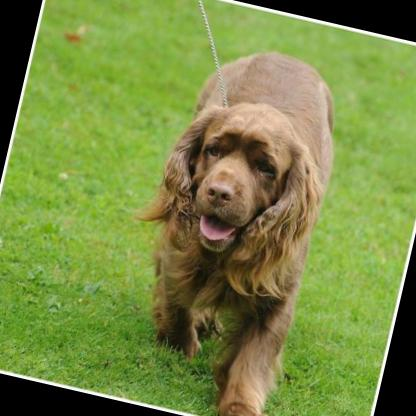Sussex_spaniel: (93, 28, 356, 416)
